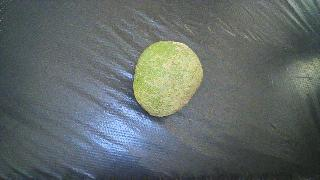DESECHO: (133, 41, 203, 117)
